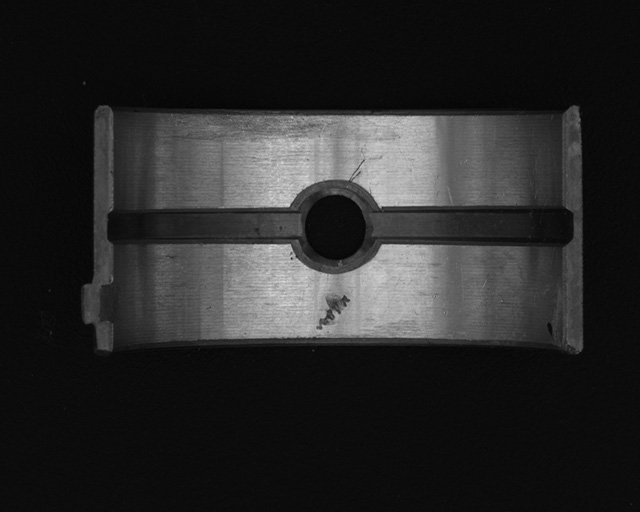blot: (545, 320, 556, 339)
bruise: (314, 290, 351, 331)
gap: (368, 206, 572, 245), (106, 207, 302, 244)
hole: (291, 183, 377, 268)
nick: (348, 159, 365, 184)
scratch: (160, 108, 337, 146)
